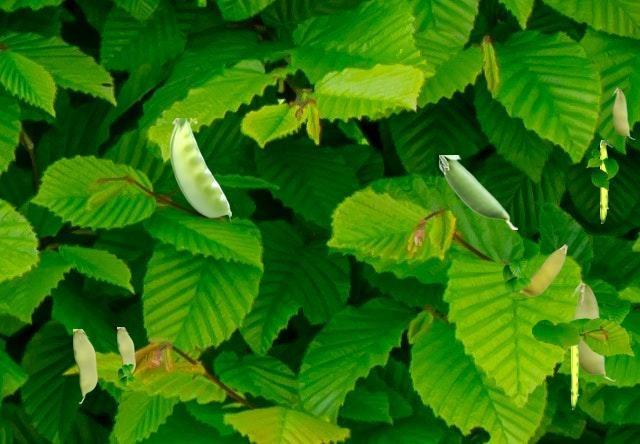pea: (169, 118, 230, 222), (439, 155, 516, 228), (571, 280, 615, 380), (519, 244, 566, 295), (73, 329, 96, 402), (612, 87, 634, 138), (600, 140, 611, 222), (117, 327, 134, 375), (571, 337, 580, 408)
